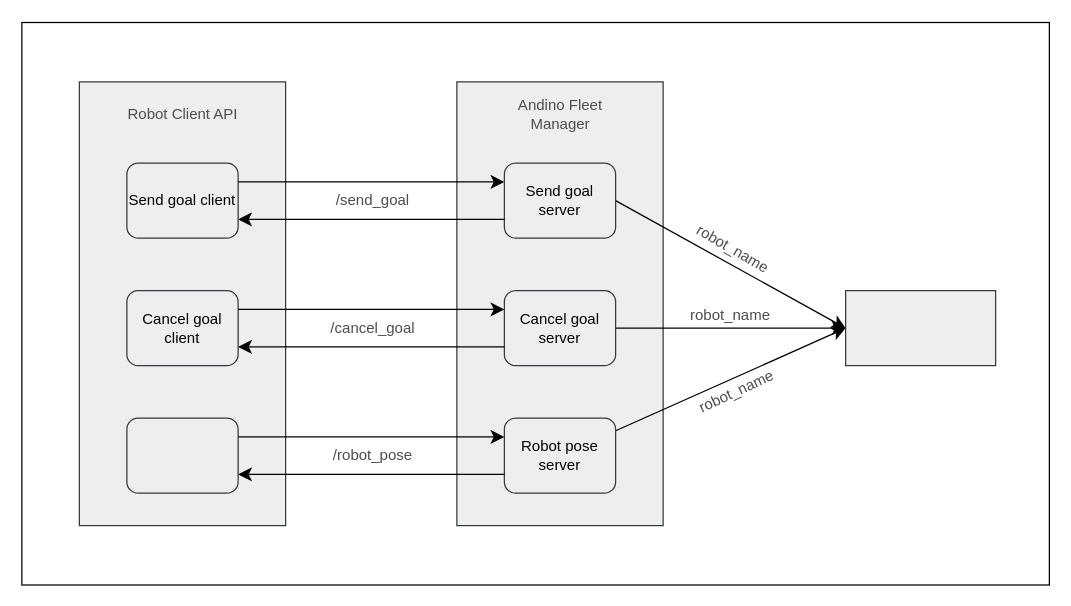
Image size: 1071x606. Some labels were removed from this diagram. Here are the shapes that lost their labels. From the top down, the centre of each, then its label:
the point at 920,327: Robot Handler
the point at 182,455: Robot pose client
